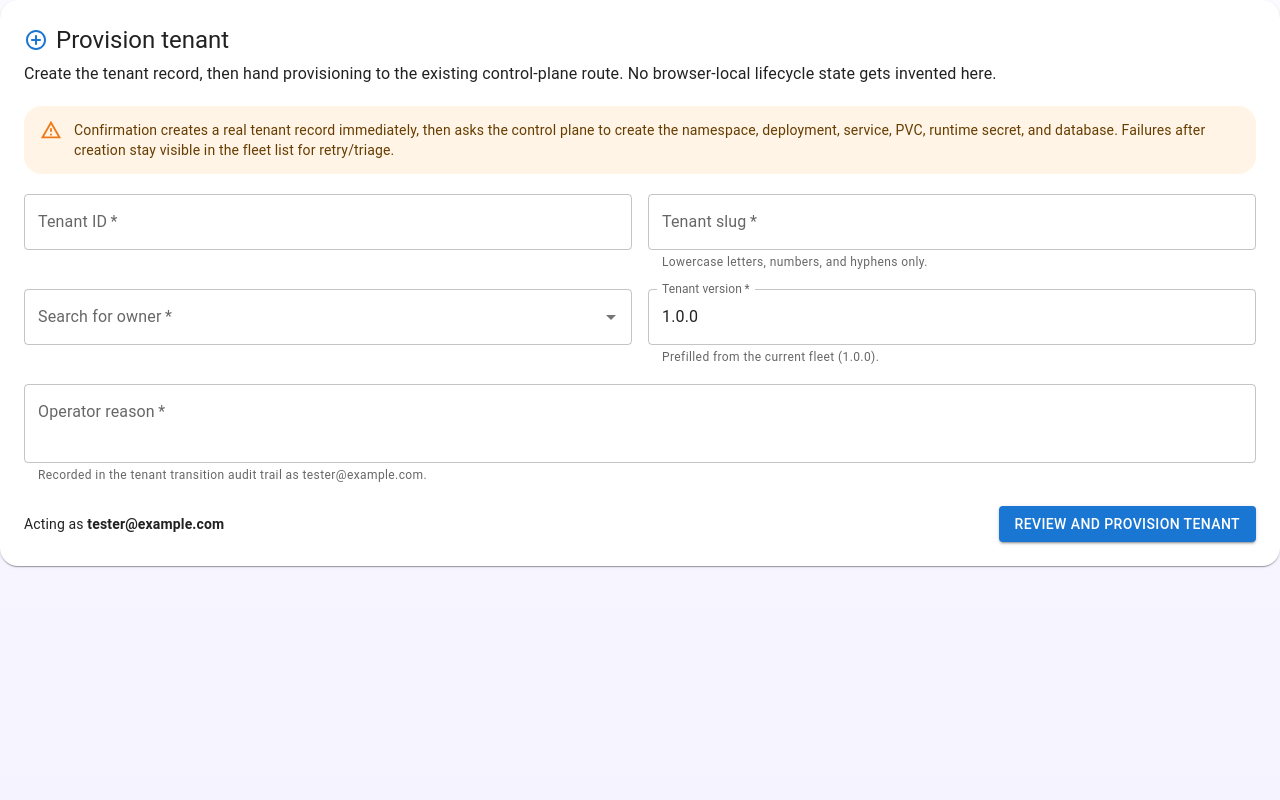
Test: ProvisionTenantPanel › shows empty state when no users match the query
This screenshot has width=1280, height=800.
Type "nobody" into the dropdown labelled "Search for owner *" at coordinates (313, 317), box [33, 298, 593, 336]
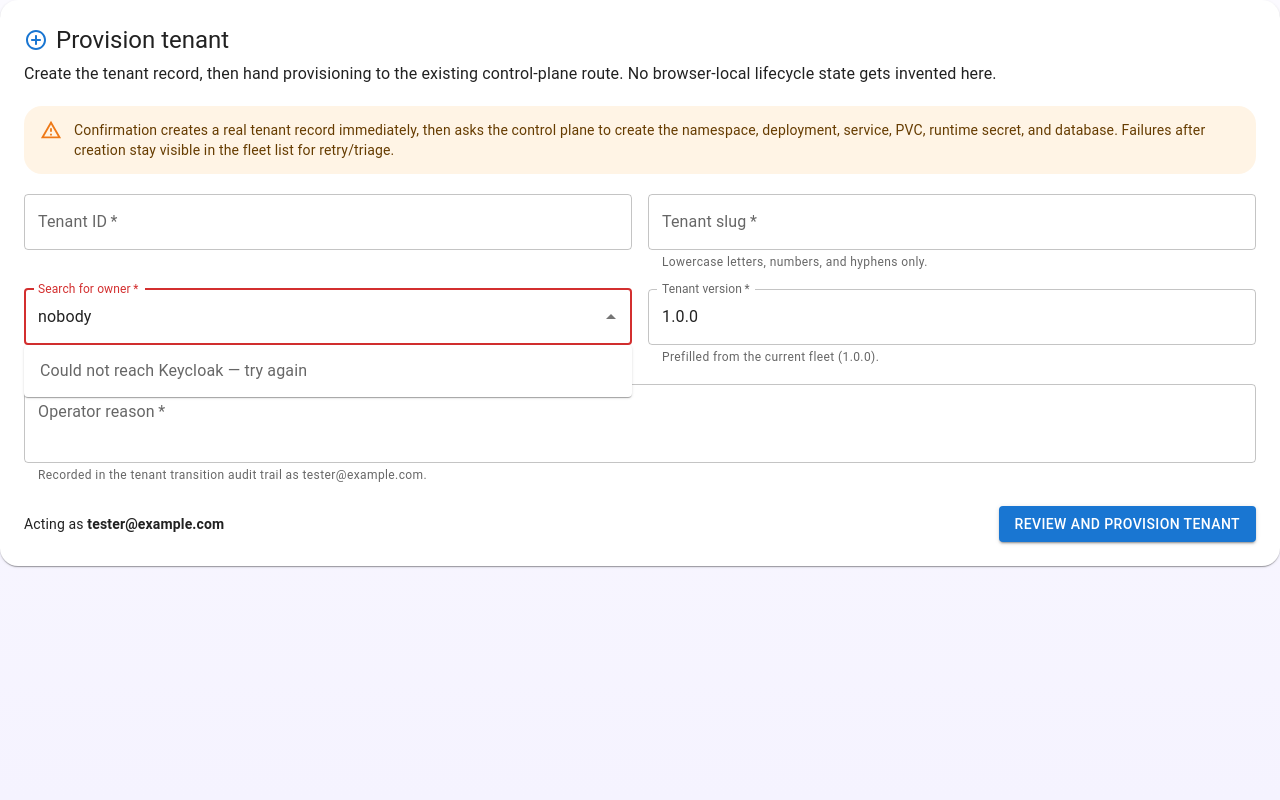
Expected: the text "No users match" is shown, [40, 361, 307, 380]
